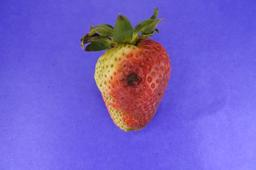red strawberry: (91, 24, 172, 133)
